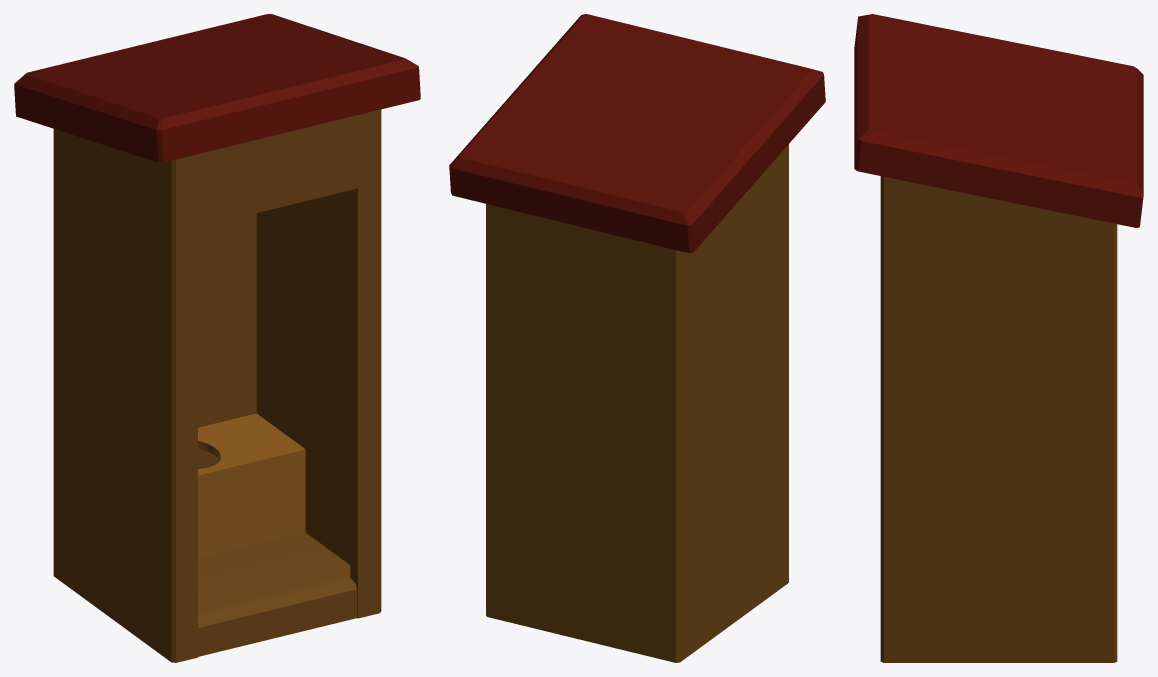
Rendered from outhouse.fbx.
The picture shows the model from 3 angles, left to right: view 1: azimuth 30°, elevation 25°; view 2: azimuth 150°, elevation 25°; view 3: azimuth 270°, elevation 25°; orthographic projection. The views are drawn at different scales.
Visible parts, largest first — view 1: Outhouse; view 2: Outhouse; view 3: Outhouse.
Boxes of the visible parts, x1,y1,x2,y2 form: Outhouse: (14, 14, 420, 662); Outhouse: (449, 14, 825, 662); Outhouse: (854, 14, 1143, 662).
Size of the model in its own units: 115 by 232 by 113.
